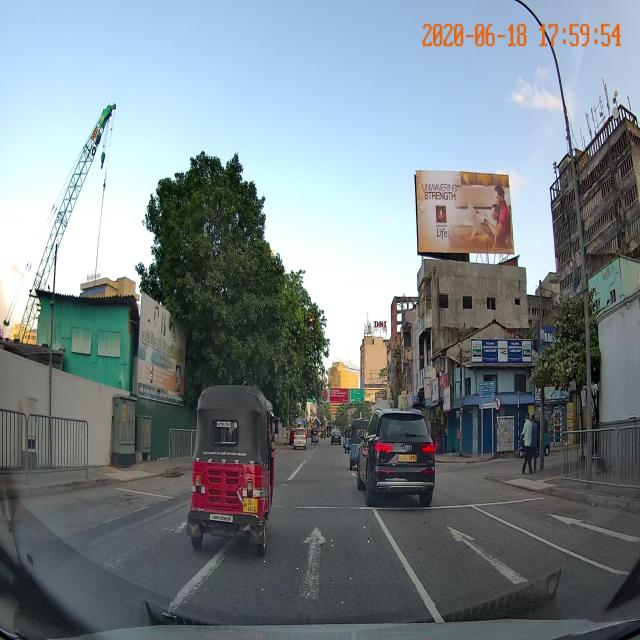diamond: (178, 514, 433, 609)
